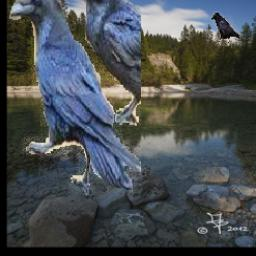Crow: (8, 0, 142, 195), (210, 13, 239, 47)
